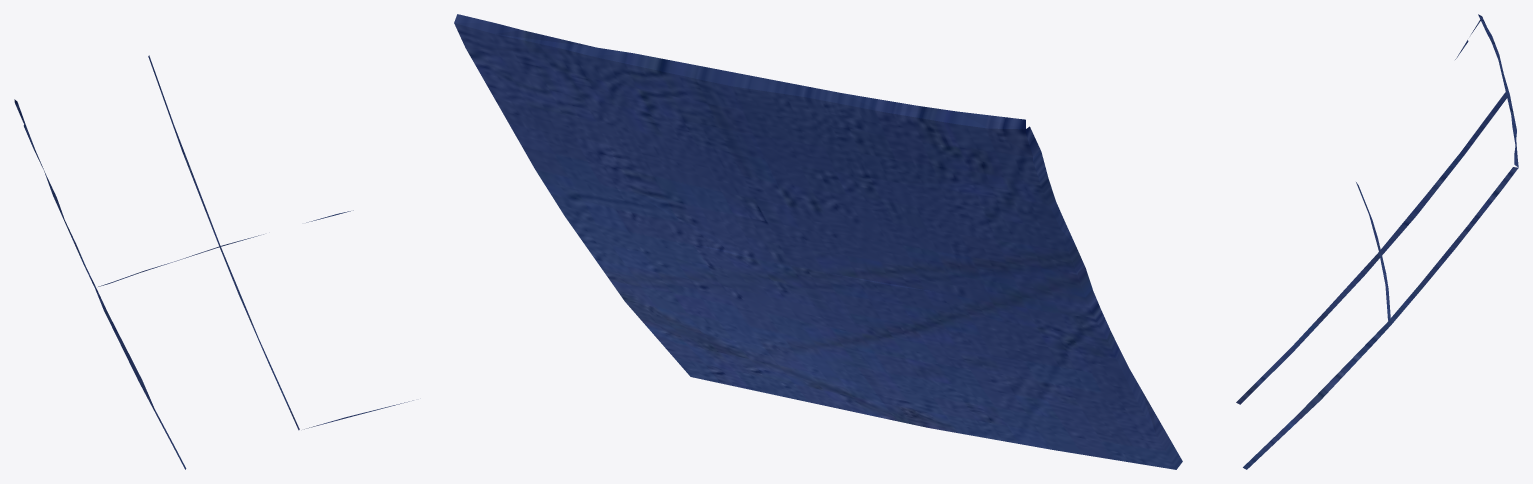
3 renders of one model, left to right at view 1: azimuth 30°, elevation 25°; view 2: azimuth 150°, elevation 25°; view 3: azimuth 270°, elevation 25°, orthographic. The views are drawn at different scales.
Bounding box in the file's own units: 1049028 × 985882 × 897179.
1 material, 1 textured.
